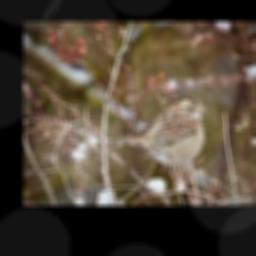Sparrow: (106, 96, 209, 175)
